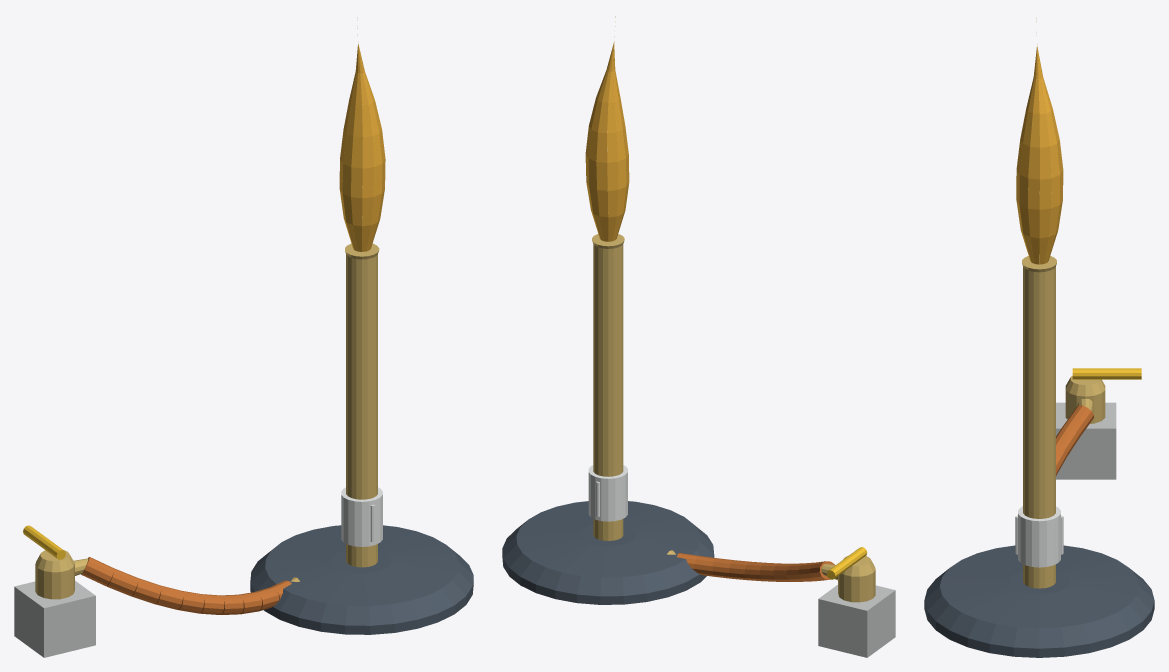
The model's file is bunsen-burner.glb.
3 renders of one model, left to right at view 1: azimuth 30°, elevation 25°; view 2: azimuth 150°, elevation 25°; view 3: azimuth 270°, elevation 25°, orthographic. The views are drawn at different scales.
Visible parts, largest first — view 1: static, led:FLAME, turn:COLLAR; view 2: static, led:FLAME, turn:COLLAR; view 3: static, led:FLAME, turn:COLLAR, turn:TAP.
Boxes of the visible parts, <box> form: static: <box>14,243,473,657</box>; led:FLAME: <box>339,17,385,251</box>; turn:COLLAR: <box>341,487,382,546</box>; static: <box>502,234,895,657</box>; led:FLAME: <box>585,16,629,241</box>; turn:COLLAR: <box>588,465,627,521</box>; static: <box>924,254,1154,657</box>; led:FLAME: <box>1016,18,1063,264</box>; turn:COLLAR: <box>1015,506,1063,567</box>; turn:TAP: <box>1072,368,1141,379</box>.
Size of the model in its own units: 0.189 by 0.2555 by 0.09.
